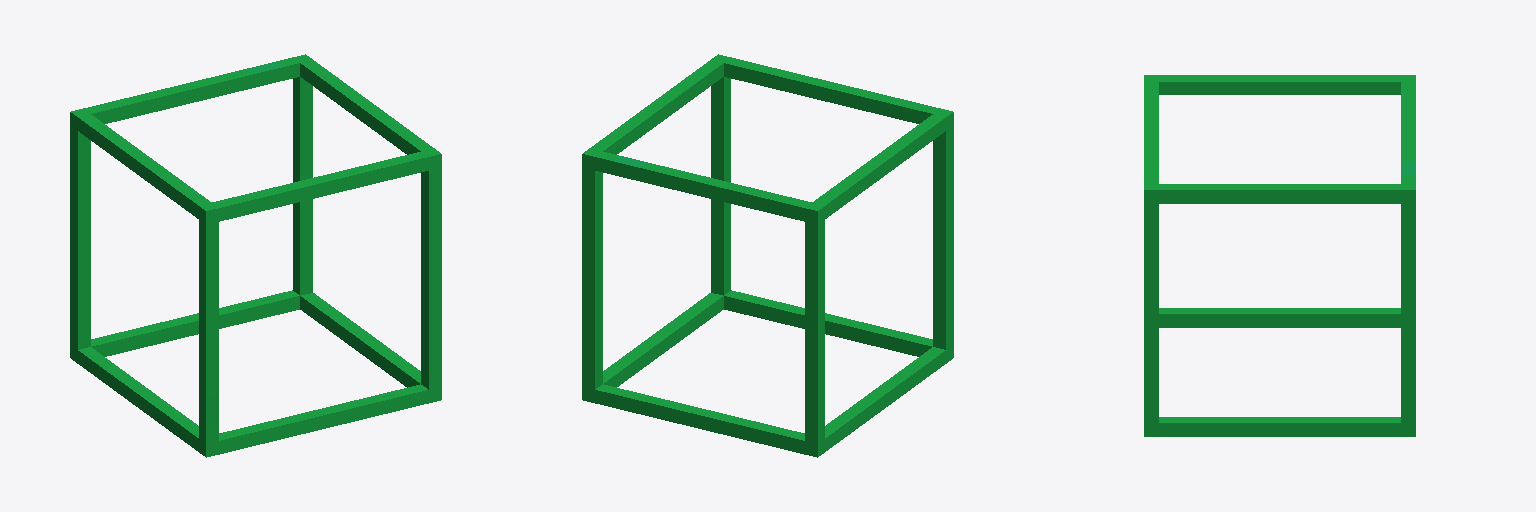
3 views of the same model, side by side, from view 1: azimuth 30°, elevation 25°; view 2: azimuth 150°, elevation 25°; view 3: azimuth 270°, elevation 25° (orthographic).
Parts seen in each view (by area): view 1: Cube; view 2: Cube; view 3: Cube.
Part boxes in pixels (x1,y1,x2,y2): Cube: (70,54,441,457); Cube: (582,54,953,457); Cube: (1144,75,1415,436).
Bounding box in the file's own units: 1.14 × 1.14 × 1.14.
1 materials, 1 textured.